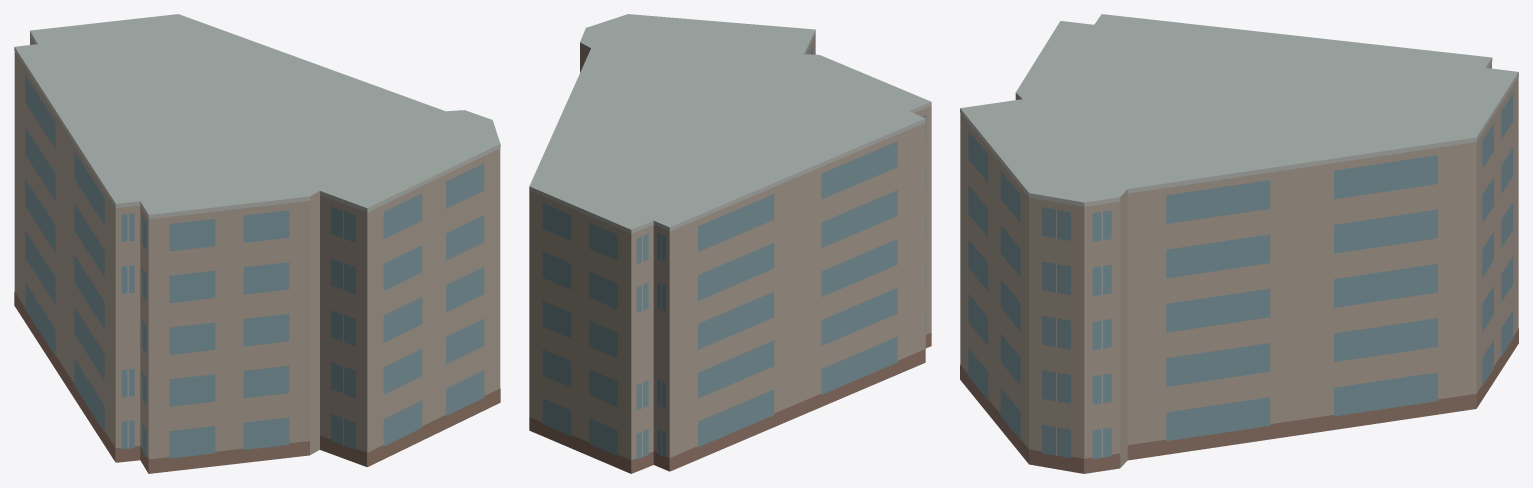
File: survey-upis-32549014.glb
3 views of the same model, side by side, from view 1: azimuth 30°, elevation 25°; view 2: azimuth 150°, elevation 25°; view 3: azimuth 270°, elevation 25° (orthographic). The views are drawn at different scales.
Parts seen in each view (by area): view 1: survey-upis-32549014.tmp; view 2: survey-upis-32549014.tmp; view 3: survey-upis-32549014.tmp.
Boxes of the visible parts, x1,y1,x2,y2 form: survey-upis-32549014.tmp: (14, 14, 500, 473); survey-upis-32549014.tmp: (529, 14, 931, 473); survey-upis-32549014.tmp: (960, 14, 1518, 473).
Bounding box in the file's own units: 21.91 × 14.7 × 27.44.
